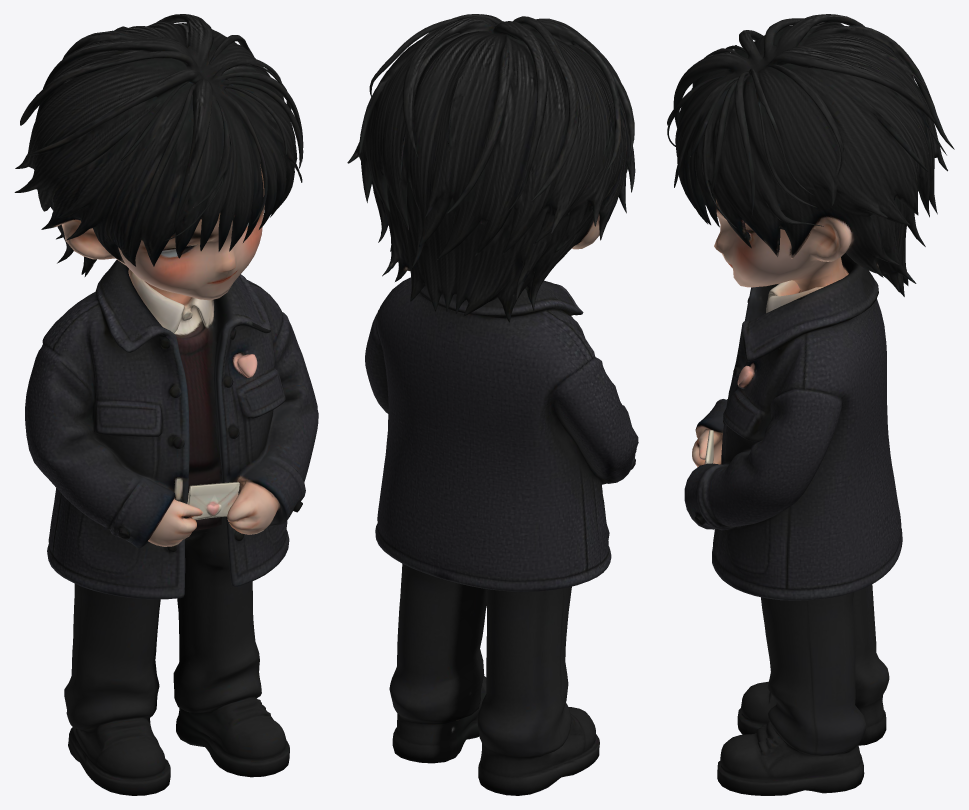
The model's file is figure-02-shy.glb.
3 views of the same model, side by side, from view 1: azimuth 30°, elevation 25°; view 2: azimuth 150°, elevation 25°; view 3: azimuth 270°, elevation 25° (orthographic).
Visible parts, largest first — view 1: tripo_node_99aca95f; view 2: tripo_node_99aca95f; view 3: tripo_node_99aca95f.
Part boxes in pixels (x1,y1,x2,y2): tripo_node_99aca95f: (14, 14, 318, 795); tripo_node_99aca95f: (347, 14, 638, 795); tripo_node_99aca95f: (667, 14, 954, 795).
Bounding box in the file's own units: 0.3794 × 0.9995 × 0.3628.
1 material, 1 textured.
